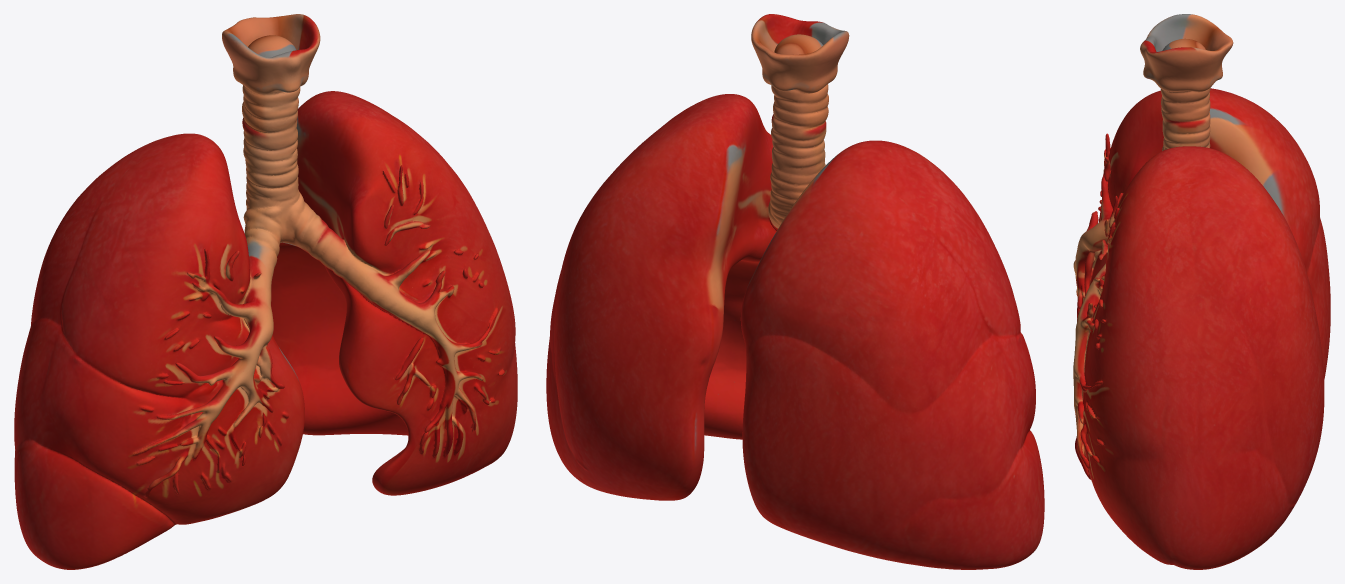
Rendered from өкпе 3д.glb.
3 renders of one model, left to right at view 1: azimuth 30°, elevation 25°; view 2: azimuth 150°, elevation 25°; view 3: azimuth 270°, elevation 25°, orthographic. The views are drawn at different scales.
Parts seen in each view (by area): view 1: tripo_node_c1bbbebc-68fa-4918-9411-7c81eb68994c; view 2: tripo_node_c1bbbebc-68fa-4918-9411-7c81eb68994c; view 3: tripo_node_c1bbbebc-68fa-4918-9411-7c81eb68994c.
Part boxes in pixels (box(x1,y1,x2,y2)): tripo_node_c1bbbebc-68fa-4918-9411-7c81eb68994c: box(14, 14, 517, 569); tripo_node_c1bbbebc-68fa-4918-9411-7c81eb68994c: box(546, 14, 1044, 569); tripo_node_c1bbbebc-68fa-4918-9411-7c81eb68994c: box(1073, 14, 1330, 569).
Bounding box in the file's own units: 1 × 0.9582 × 0.5076.
1 material, 1 textured.
